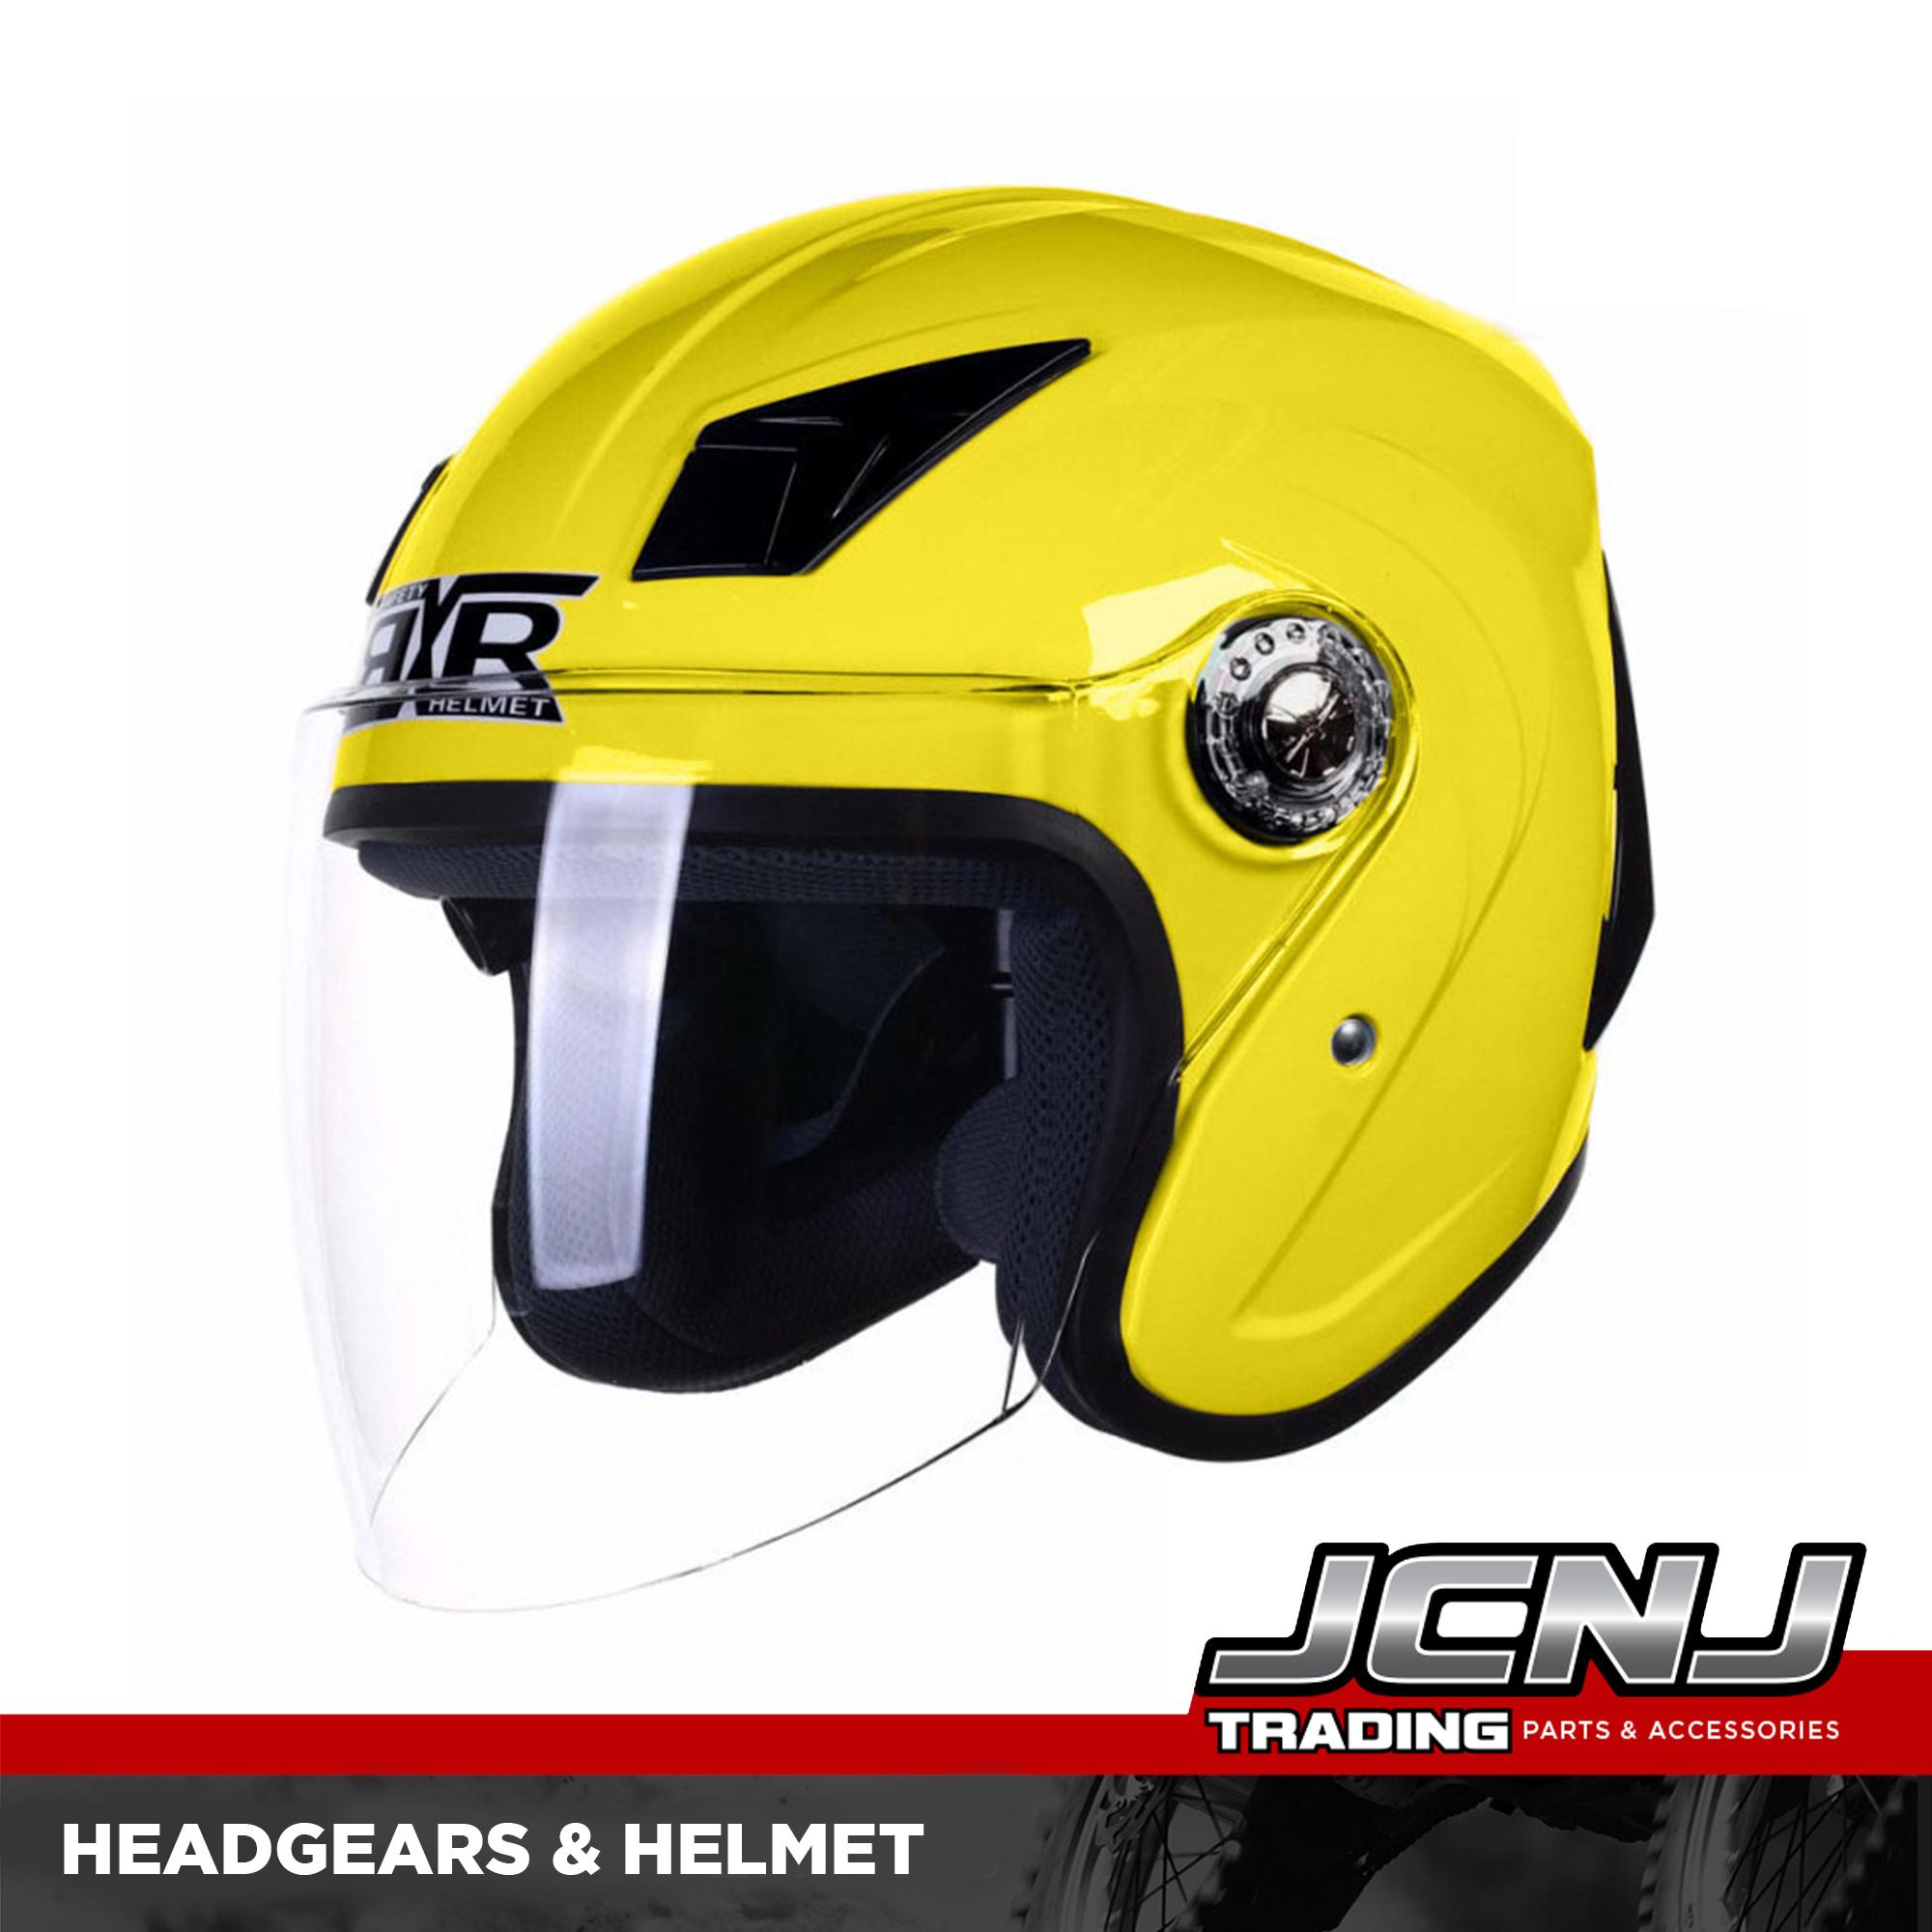with_helmet: (260, 179, 1684, 1615)
